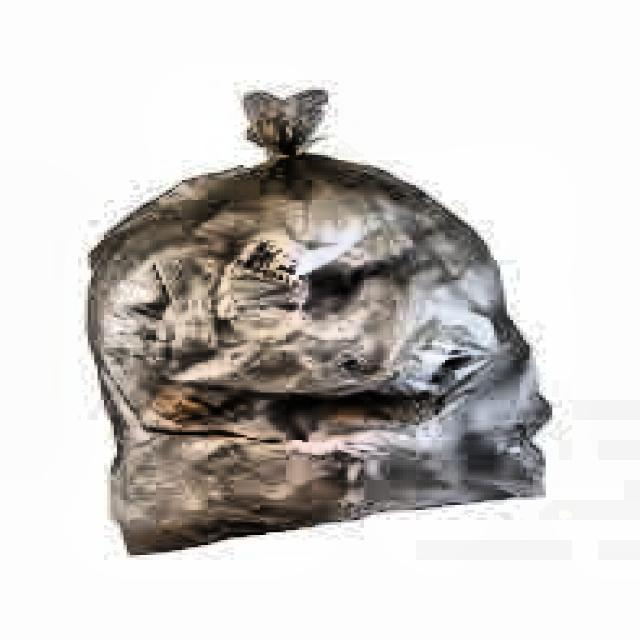Trashbag: (81, 163, 557, 573)
